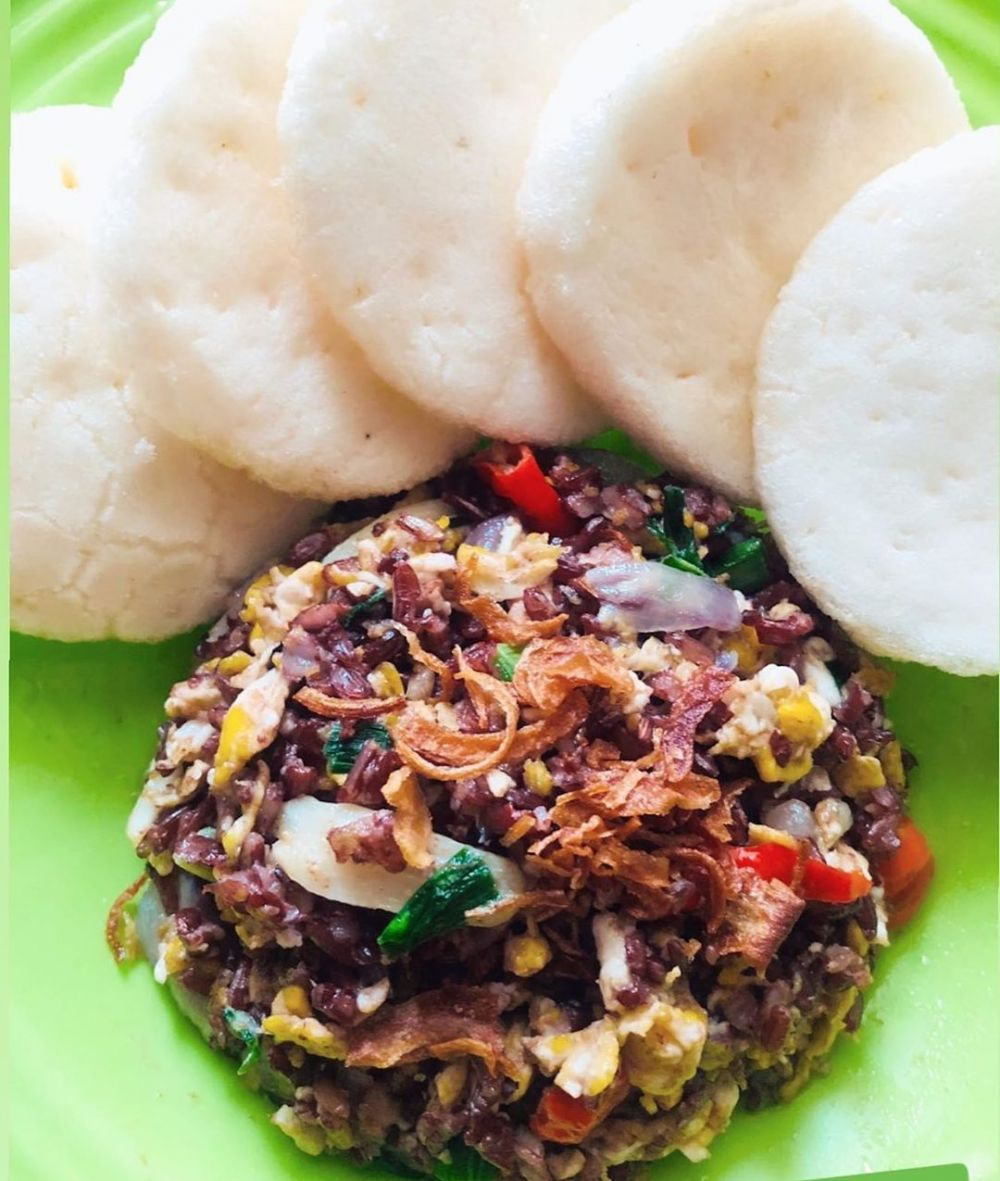Nasi Merah: (124, 485, 896, 1154)
